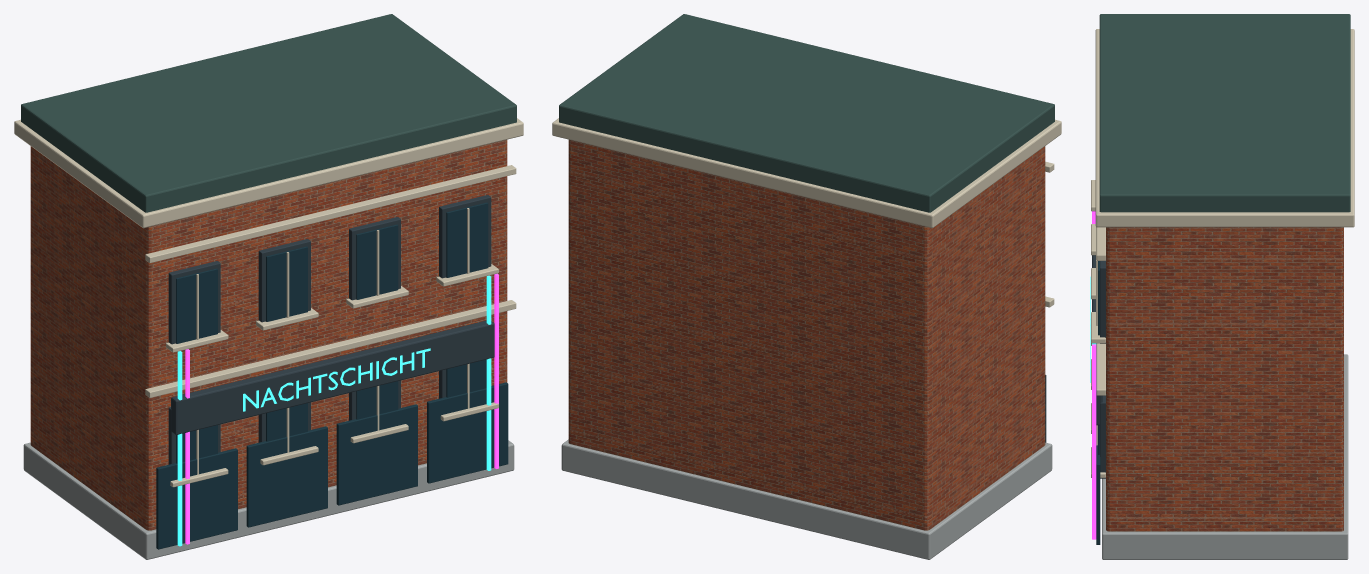
Rendered from neon-club.glb.
3 views of the same model, side by side, from view 1: azimuth 30°, elevation 25°; view 2: azimuth 150°, elevation 25°; view 3: azimuth 270°, elevation 25° (orthographic).
Visible parts, largest first — view 1: DC_Mesh_DC_Brick, DC_Mesh_DC_Roof, DC_Mesh_DC_BlueGlass, DC_Mesh_DC_Ivory, DC_Mesh_DC_Steel, DC_Mesh_DC_Concrete, DC_Mesh_DC_NeonCyan, DC_Mesh_DC_NeonMagenta; view 2: DC_Mesh_DC_Brick, DC_Mesh_DC_Roof, DC_Mesh_DC_Concrete, DC_Mesh_DC_Ivory; view 3: DC_Mesh_DC_Brick, DC_Mesh_DC_Roof, DC_Mesh_DC_Concrete, DC_Mesh_DC_Ivory, DC_Mesh_DC_Steel, DC_Mesh_DC_NeonMagenta, DC_Mesh_DC_BlueGlass.
Part boxes in pixels (box(x1,y1,x2,y2)): DC_Mesh_DC_Brick: box(30, 139, 507, 530); DC_Mesh_DC_Roof: box(21, 14, 516, 212); DC_Mesh_DC_BlueGlass: box(156, 202, 508, 549); DC_Mesh_DC_Ivory: box(14, 118, 523, 487); DC_Mesh_DC_Steel: box(168, 195, 494, 464); DC_Mesh_DC_Concrete: box(23, 440, 514, 559); DC_Mesh_DC_NeonCyan: box(177, 275, 491, 546); DC_Mesh_DC_NeonMagenta: box(185, 273, 498, 544); DC_Mesh_DC_Brick: box(568, 139, 1045, 530); DC_Mesh_DC_Roof: box(559, 14, 1054, 212); DC_Mesh_DC_Concrete: box(561, 439, 1052, 559); DC_Mesh_DC_Ivory: box(552, 118, 1061, 307); DC_Mesh_DC_Brick: box(1106, 227, 1343, 531); DC_Mesh_DC_Roof: box(1099, 14, 1350, 212); DC_Mesh_DC_Concrete: box(1102, 354, 1348, 559); DC_Mesh_DC_Ivory: box(1091, 29, 1354, 477); DC_Mesh_DC_Steel: box(1092, 255, 1105, 478); DC_Mesh_DC_NeonMagenta: box(1092, 211, 1096, 539); DC_Mesh_DC_BlueGlass: box(1096, 261, 1100, 544).
Size of the model in its own units: 7.4 by 6.79 by 4.44.
Materials: 8 (1 with a texture image).
